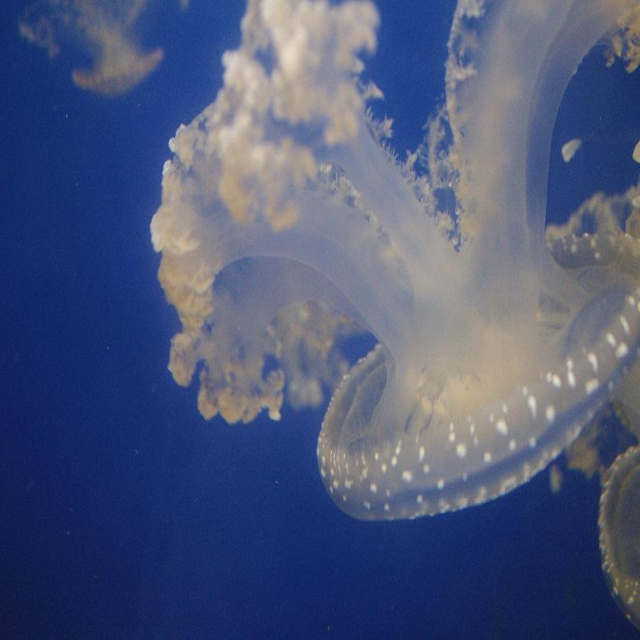Jellyfish: (146, 0, 640, 523)
